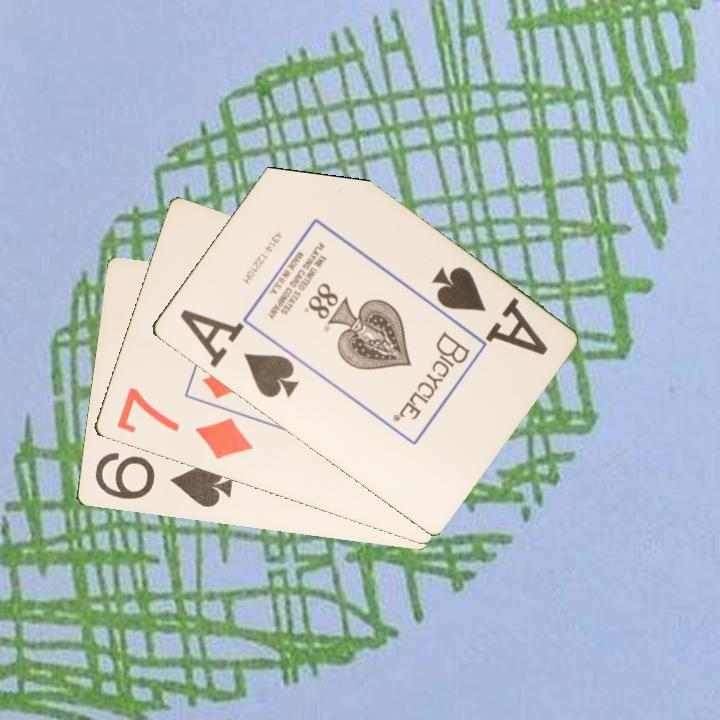6s: (90, 449, 235, 511)
7d: (112, 384, 256, 463)
As: (427, 262, 550, 359), (188, 315, 301, 402)
